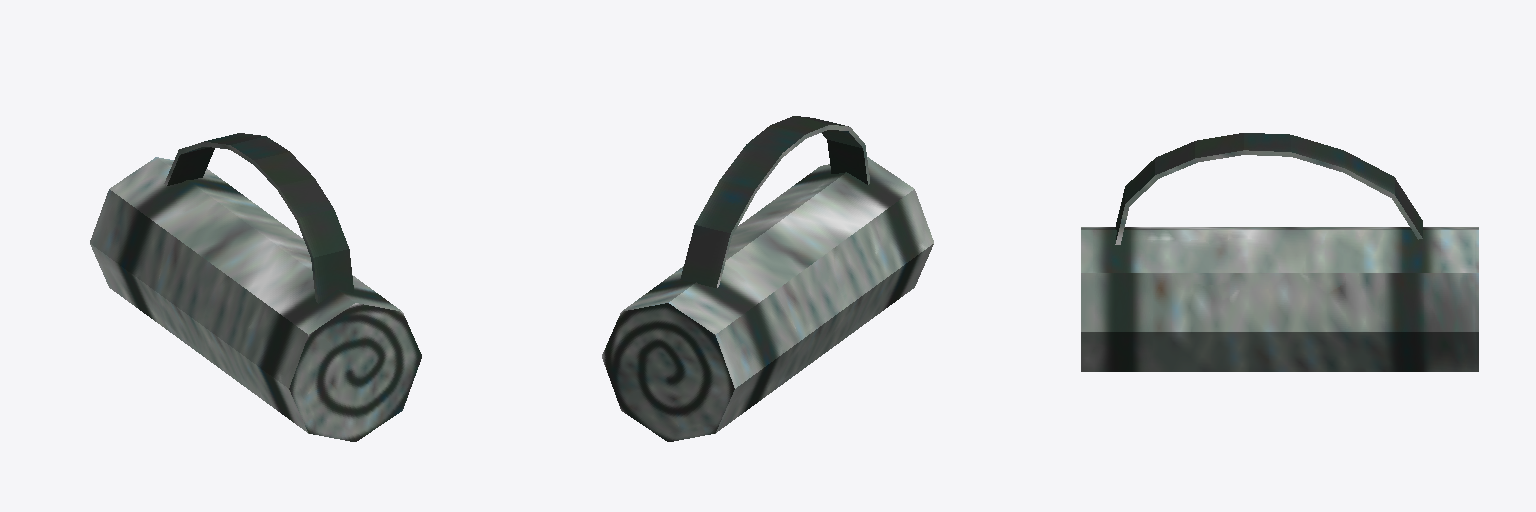
3 renders of one model, left to right at view 1: azimuth 30°, elevation 25°; view 2: azimuth 150°, elevation 25°; view 3: azimuth 270°, elevation 25°, orthographic.
Visible parts, largest first — view 1: Cylinder01; view 2: Cylinder01; view 3: Cylinder01.
Part boxes in pixels (bbox=[...]): Cylinder01: bbox=[90, 133, 421, 441]; Cylinder01: bbox=[602, 116, 933, 441]; Cylinder01: bbox=[1081, 133, 1478, 371].
Size of the model in its own units: 33.85 by 55.07 by 87.67.
Materials: 1 (1 with a texture image).